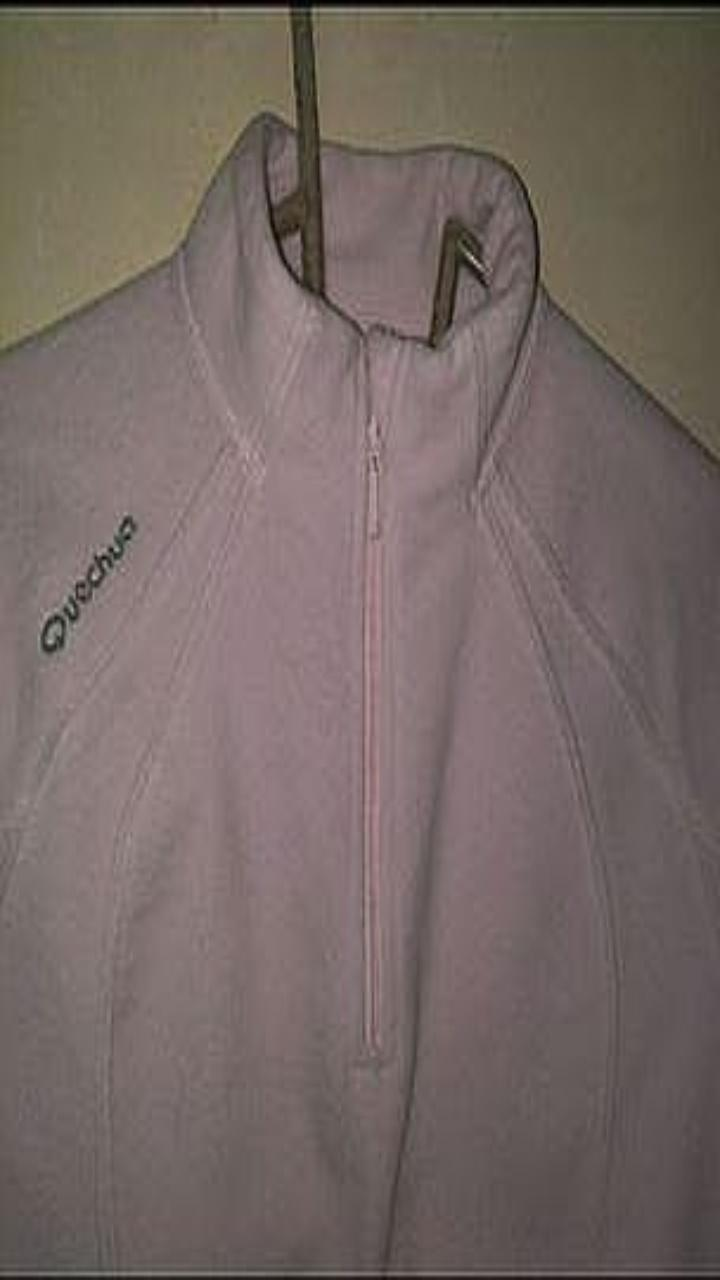Sports_Jacket: (0, 112, 719, 1271)
